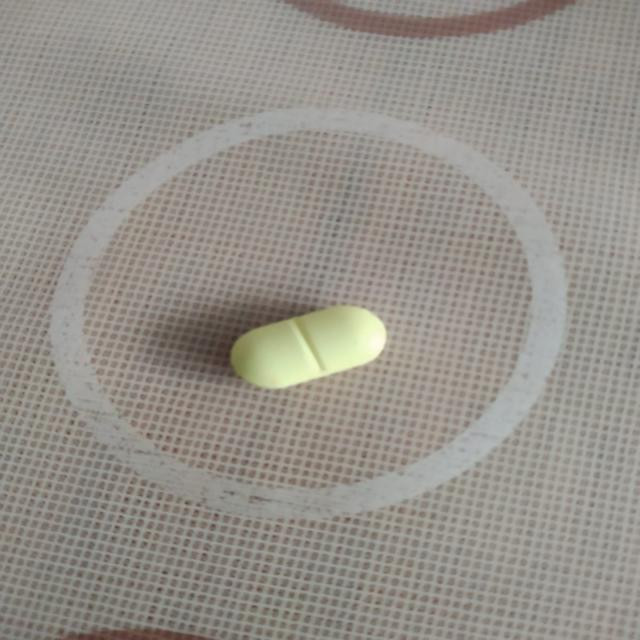pills: (216, 294, 400, 398)
